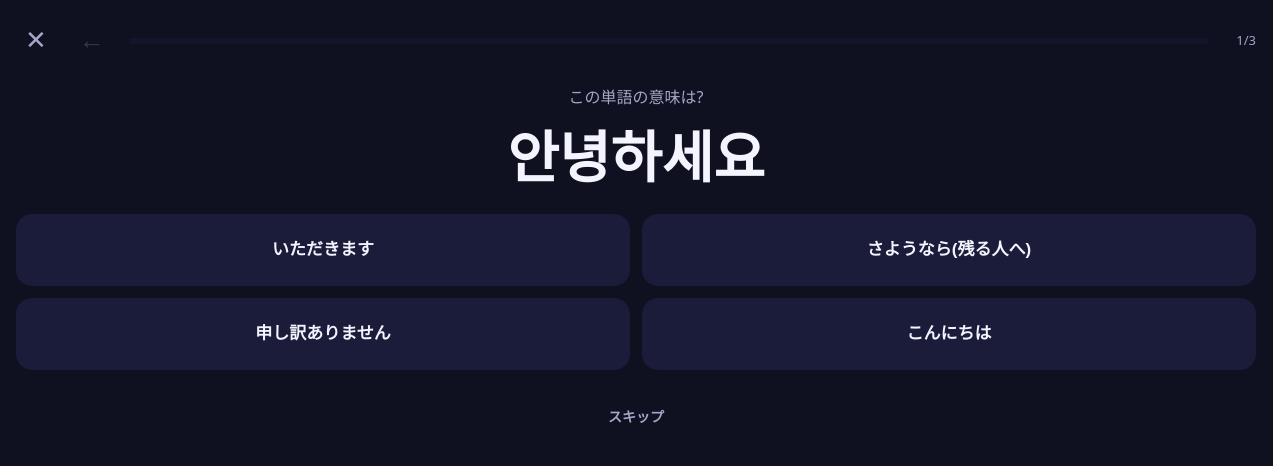
Test: Lesson skip / back navigation › lets the learner go back to a previous item read-only
This screenshot has width=1273, height=466.
Answer Q1 by its (unique) Japanese meaning, then continue to Q2.
Click the text "こんにちは" at (949, 334), box [906,322,992,345]
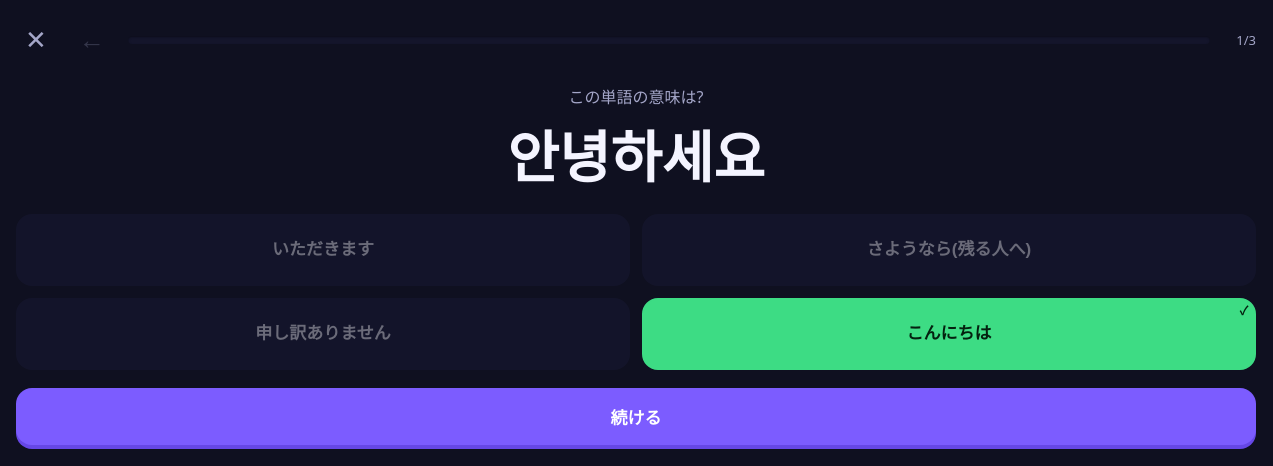
Click the button "続ける" at (636, 416), box [16,388,1256,445]
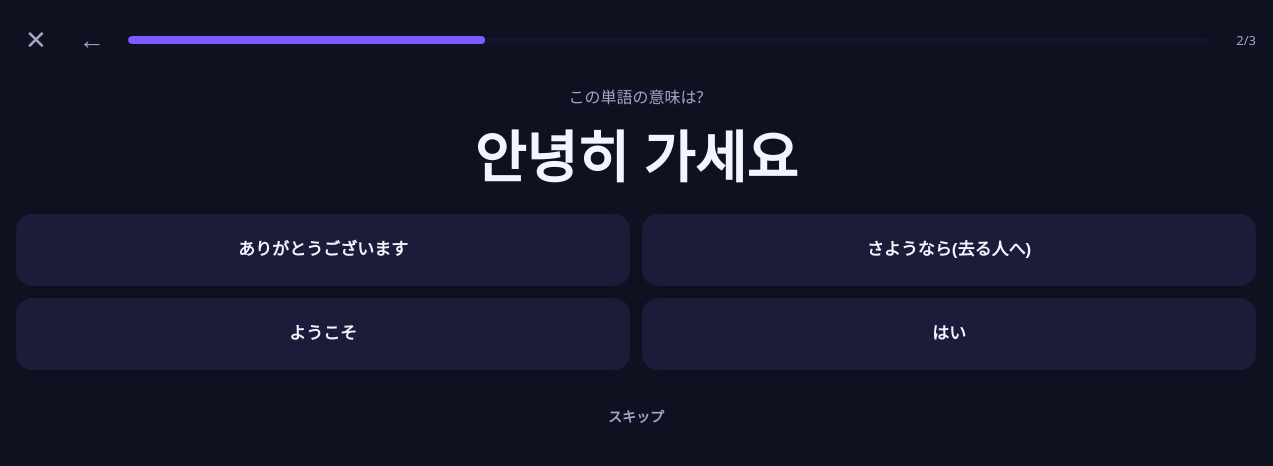
expect the text "2/3" is shown: met, box [1236,31,1256,49]
Go back to Q1.
Click the button named "前の問題へ戻る" at (92, 40), box [68,16,116,64]
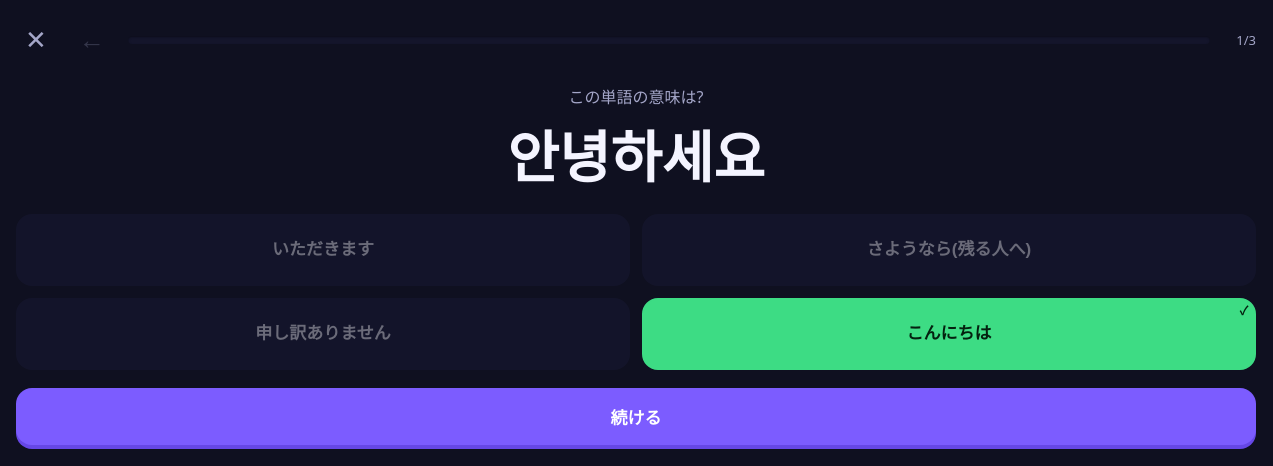
expect the text "1/3" is shown: met, box [1236,31,1256,49]
expect the button "こんにちは ✓" is disabled: met, box [642,298,1256,370]
expect the button "スキップ" is gone: met
